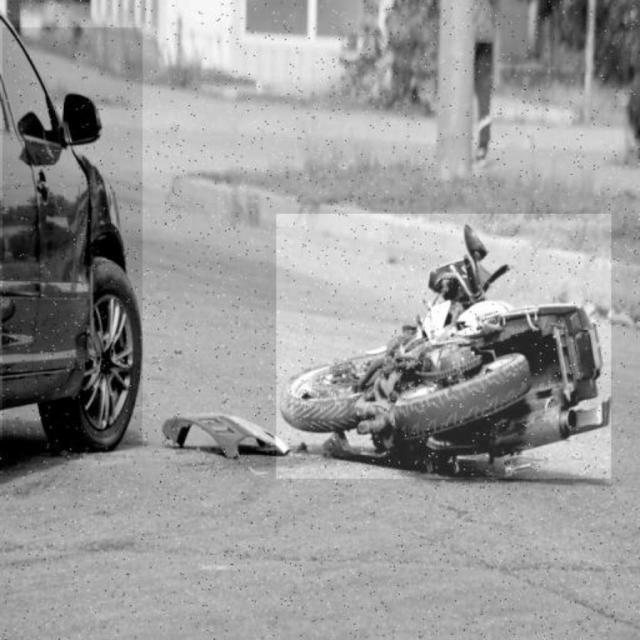vehicle: (276, 214, 611, 478), (3, 27, 143, 445)
